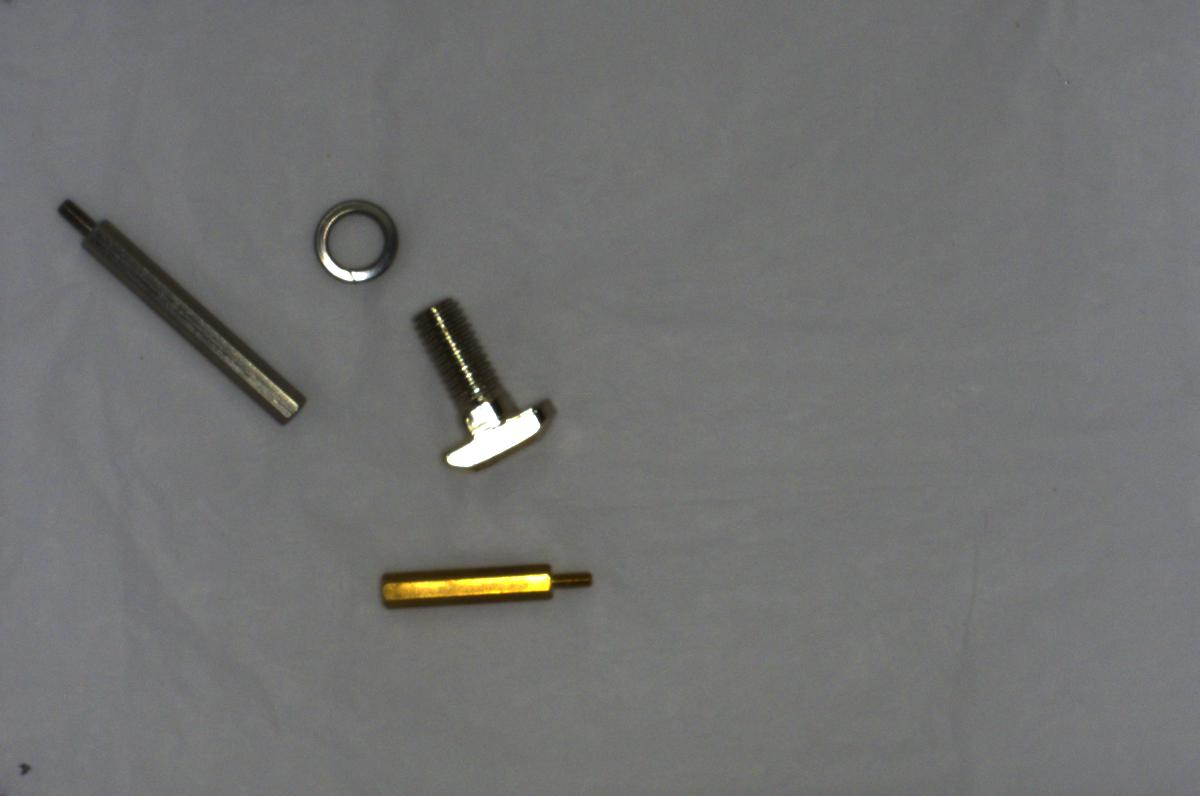Hexagon pillar: (372, 550, 600, 620)
Hexagonal steel column: (50, 192, 307, 425)
Spring washer: (310, 196, 399, 287)
T-shaped screw: (408, 289, 558, 473)
